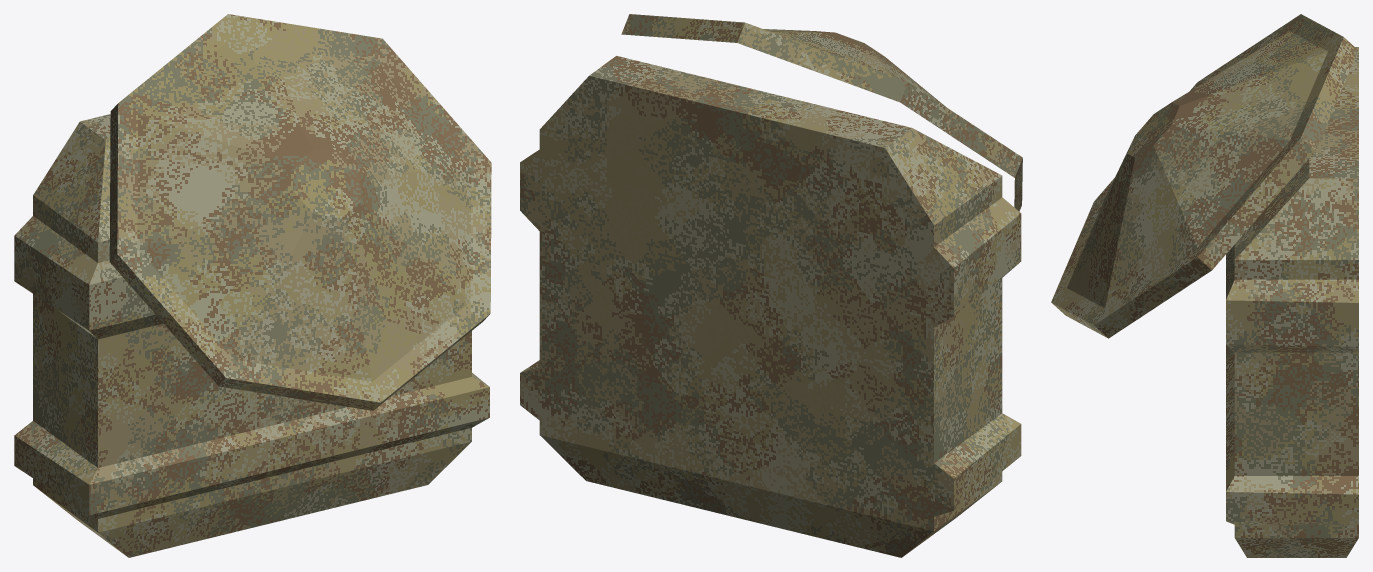
The model's file is pack0.glb.
The picture shows the model from 3 angles, left to right: view 1: azimuth 30°, elevation 25°; view 2: azimuth 150°, elevation 25°; view 3: azimuth 270°, elevation 25°; orthographic projection. The views are drawn at different scales.
Parts seen in each view (by area): view 1: pack0; view 2: pack0; view 3: pack0.
Boxes of the visible parts, x1,y1,x2,y2 form: pack0: (14,14,491,557); pack0: (520,14,1022,557); pack0: (1051,14,1358,557).
Bounding box in the file's own units: 0.66 × 0.721 × 0.4461.
1 material, 1 textured.
